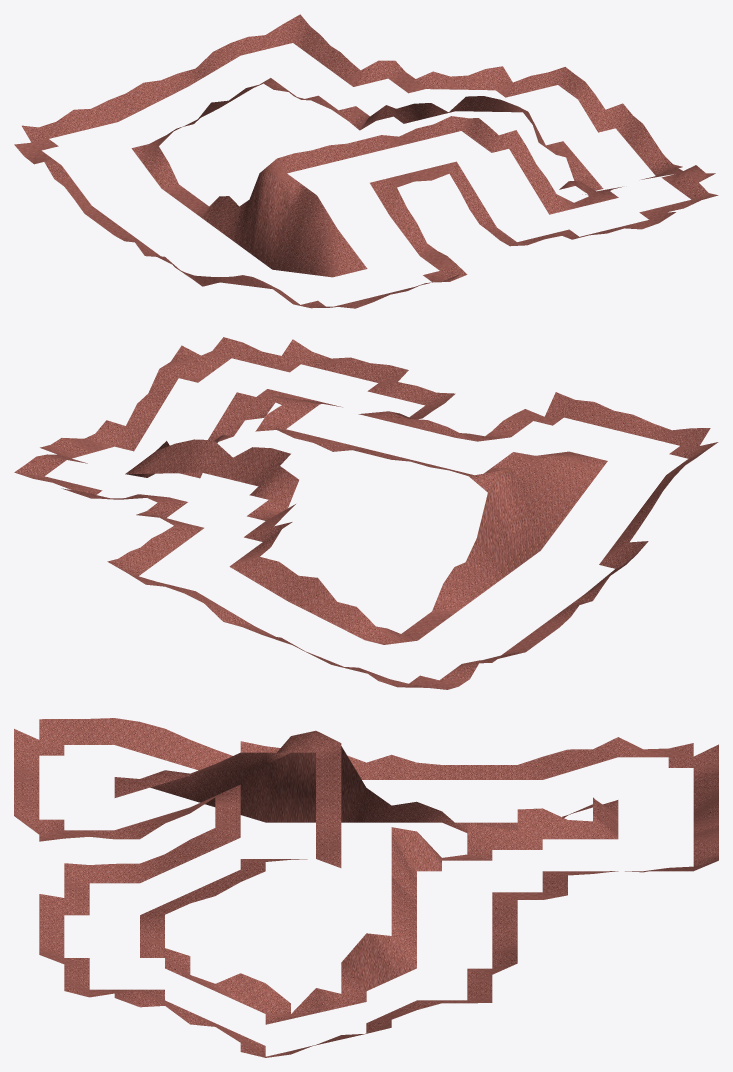
The model's file is border02.obj.
3 views of the same model, one above another, from view 1: azimuth 30°, elevation 25°; view 2: azimuth 150°, elevation 25°; view 3: azimuth 270°, elevation 25° (orthographic). The views are drawn at different scales.
Visible parts, largest first — view 1: border; view 2: border; view 3: border.
Boxes of the visible parts, x1,y1,x2,y2 form: border: (14, 14, 718, 308); border: (14, 337, 718, 689); border: (14, 718, 718, 1057).
Size of the model in its own units: 560 by 90.19 by 560.
Materials: 1 (1 with a texture image).
